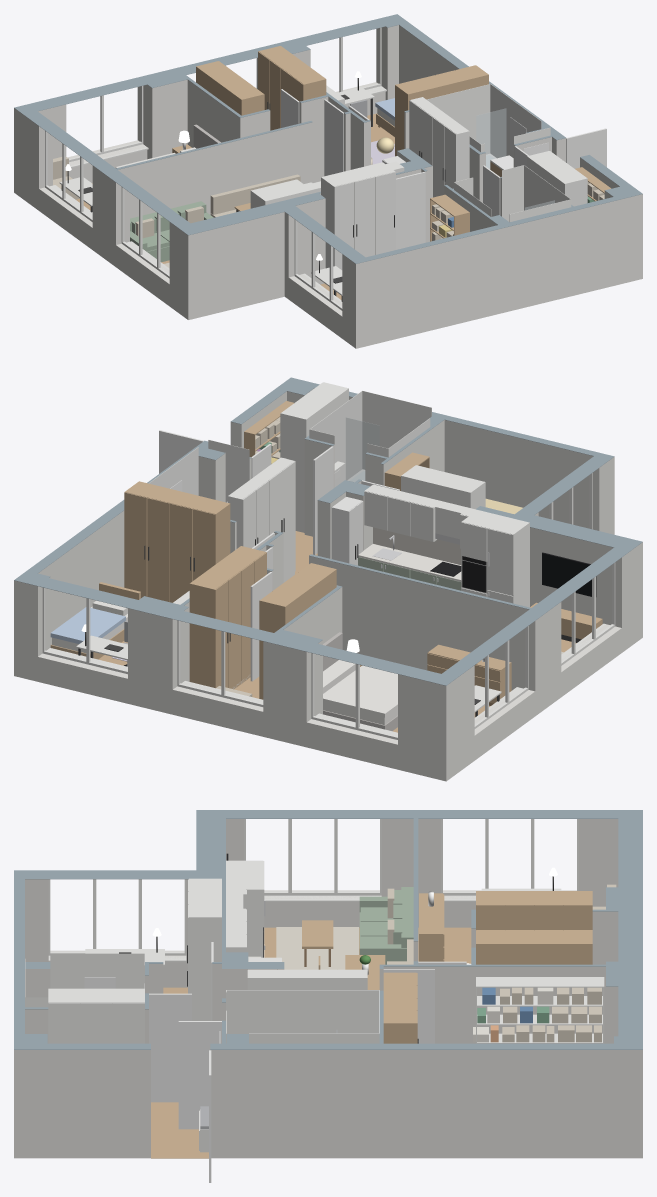
The picture shows the model from 3 angles, top to bottom: view 1: azimuth 30°, elevation 25°; view 2: azimuth 150°, elevation 25°; view 3: azimuth 270°, elevation 25°; orthographic projection. The views are drawn at different scales.
Visible parts, largest first — view 1: wall, white, wallcap, oak, tile_wall, white_gloss, fabric_sand, glass, fabric_green, metal_dark, mirror; view 2: wall, white, oak, wallcap, tile_wall, white_gloss, linen, backsplash, glass, bed_blue, oak_floor, black (+6 smaller); view 3: wall, white, wallcap, oak, tile_wall, white_gloss, fabric_sand, oak_floor, fabric_green, rug_sand, book4.
Part boxes in pixels (x1,y1,x2,y2): wall: (14,25,642,348); white: (45,27,587,310); wallcap: (14,14,642,263); oak: (172,46,610,241); tile_wall: (426,84,571,222); white_gloss: (281,89,606,249); fabric_sand: (53,156,604,240); glass: (476,108,554,210); fabric_green: (130,201,213,262); metal_dark: (61,78,445,301); mirror: (510,117,548,155); wall: (14,388,642,781); white: (42,382,615,739); oak: (50,401,602,703); wallcap: (14,377,642,685); tile_wall: (149,390,431,502); white_gloss: (159,430,399,681); linen: (52,600,397,724); backsplash: (373,527,461,564); glass: (346,417,379,481); bed_blue: (50,607,125,643); oak_floor: (98,531,576,732); black: (430,552,596,596); wall: (14,819,642,1158); white: (48,819,604,1152); wallcap: (14,810,642,1049); oak: (302,891,592,1043); tile_wall: (25,953,379,1043); white_gloss: (149,942,466,1182); fabric_sand: (387,884,616,1042); oak_floor: (151,927,471,1158); fabric_green: (359,887,413,964); rug_sand: (276,927,358,969); book4: (473,987,553,1042).
Bounding box in the file's own units: 10.98 × 2.5 × 11.03.
